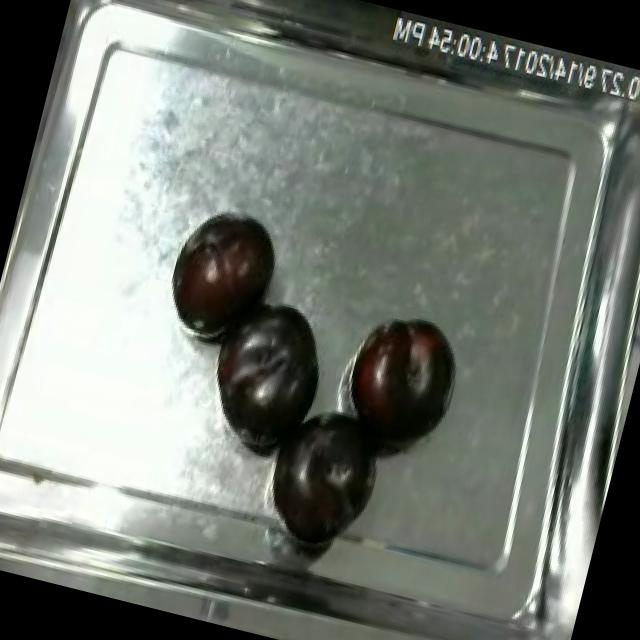Fruit: (196, 286, 342, 464), (332, 298, 473, 462), (254, 394, 390, 561), (158, 200, 292, 351)
